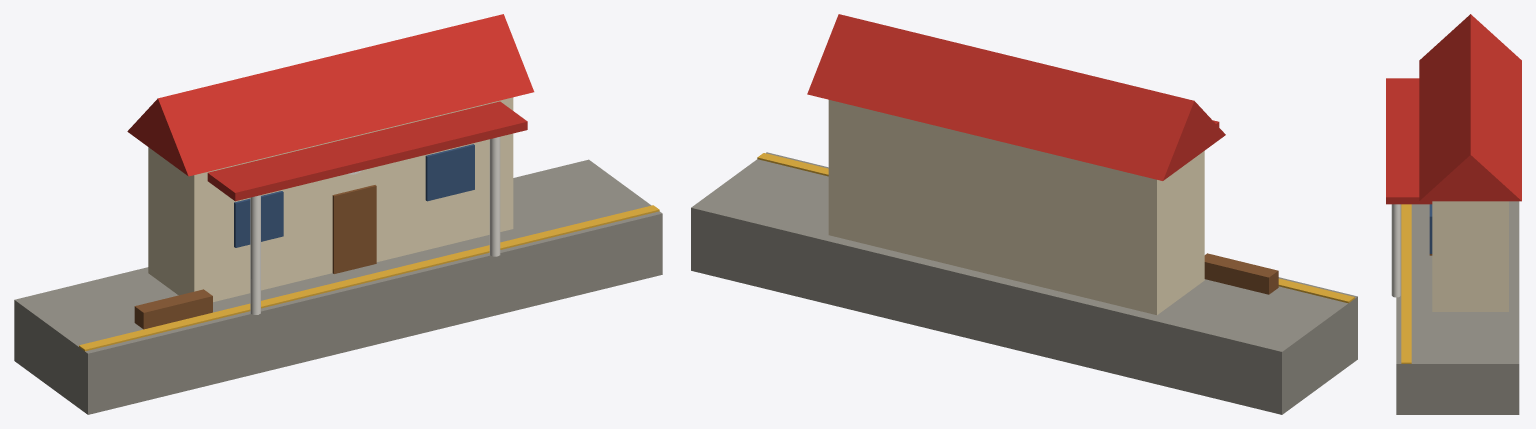
Rendered from station.glb.
3 views of the same model, side by side, from view 1: azimuth 30°, elevation 25°; view 2: azimuth 150°, elevation 25°; view 3: azimuth 270°, elevation 25° (orthographic). The views are drawn at different scales.
Visible parts, largest first — view 1: stone, red, cream, darkWood, yellow, glass, white; view 2: stone, cream, red, darkWood, yellow; view 3: red, stone, cream, yellow, white, glass.
Part boxes in pixels (x1=…): stone: x1=14, y1=159, x2=662, y2=414; red: x1=127, y1=14, x2=534, y2=201; cream: x1=148, y1=97, x2=513, y2=301; darkWood: x1=134, y1=185, x2=376, y2=329; yellow: x1=79, y1=205, x2=659, y2=351; glass: x1=234, y1=144, x2=474, y2=247; white: x1=250, y1=137, x2=500, y2=314; stone: x1=691, y1=152, x2=1357, y2=414; cream: x1=828, y1=100, x2=1204, y2=314; red: x1=807, y1=14, x2=1225, y2=180; darkWood: x1=1204, y1=253, x2=1278, y2=294; yellow: x1=757, y1=153, x2=1354, y2=303; red: x1=1386, y1=14, x2=1521, y2=204; stone: x1=1396, y1=201, x2=1519, y2=414; cream: x1=1432, y1=201, x2=1508, y2=311; yellow: x1=1401, y1=204, x2=1411, y2=363; white: x1=1391, y1=204, x2=1400, y2=297; glass: x1=1429, y1=204, x2=1432, y2=253.
Size of the model in its own units: 216 by 92 by 53.
